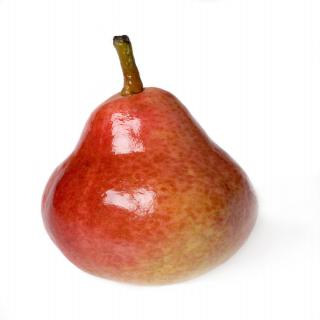Pear: (42, 86, 258, 286)
